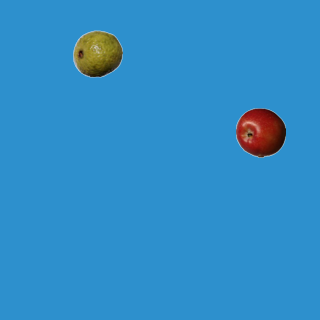Apple Braeburn: (235, 107, 285, 157)
Guava: (72, 28, 122, 78)
